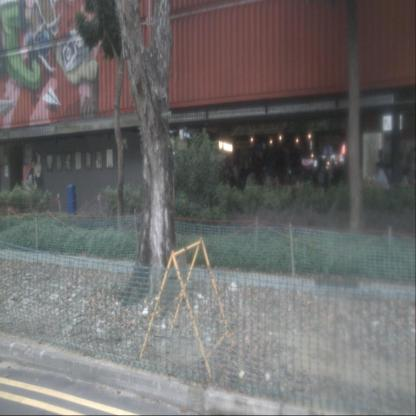human-pedestrian-adult: (375, 165, 391, 214), (399, 170, 412, 212), (319, 164, 327, 206), (246, 171, 256, 204), (232, 162, 239, 200), (263, 171, 271, 204), (228, 170, 236, 200)
